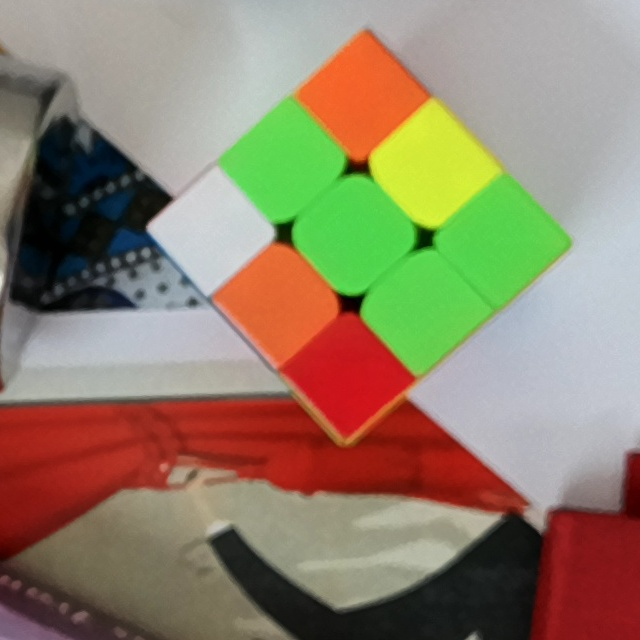tile: (319, 201, 386, 273), (467, 207, 535, 275), (397, 133, 461, 203), (388, 275, 454, 341), (312, 341, 377, 408), (326, 66, 393, 129), (246, 266, 308, 334), (181, 199, 246, 263), (255, 131, 319, 195)
